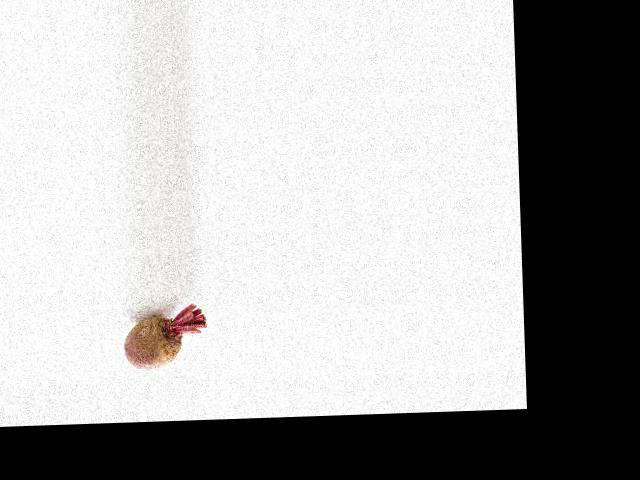beet: (121, 302, 207, 370)
